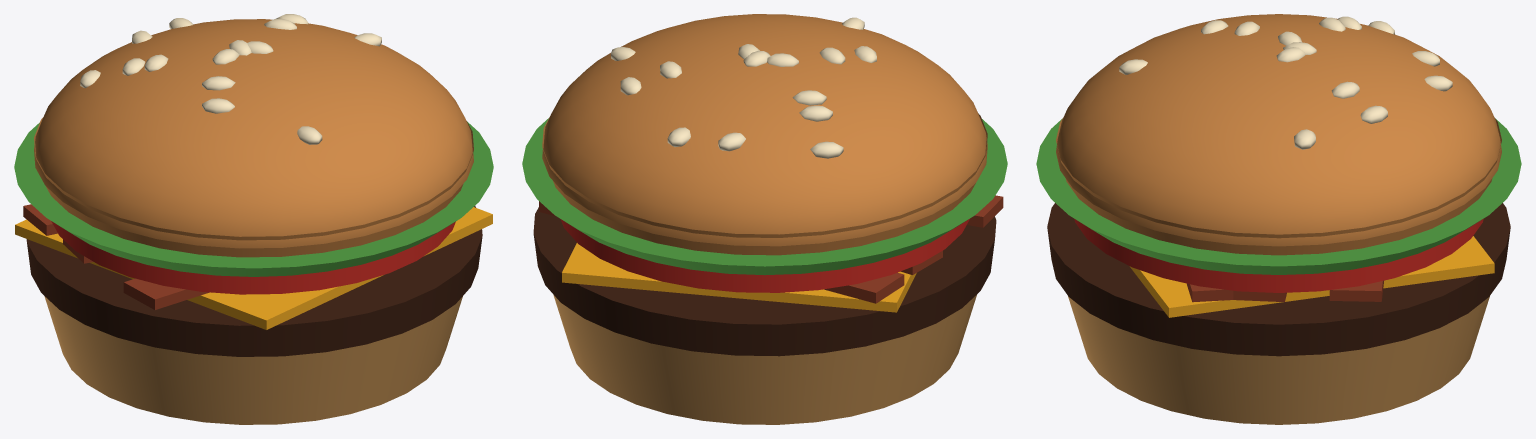
Rendered from burger-smash.glb.
The picture shows the model from 3 angles, left to right: view 1: azimuth 30°, elevation 25°; view 2: azimuth 150°, elevation 25°; view 3: azimuth 270°, elevation 25°; orthographic projection.
Bounding box in the file's own units: 0.1506 × 0.102 × 0.1506.
